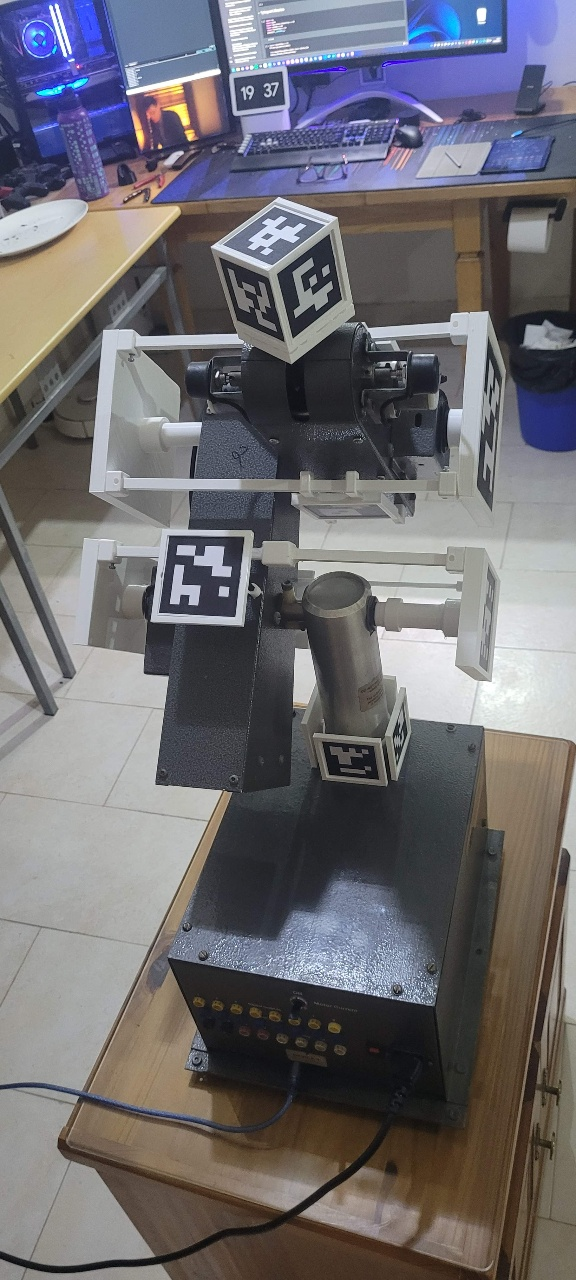Robot: (49, 389, 421, 993)
